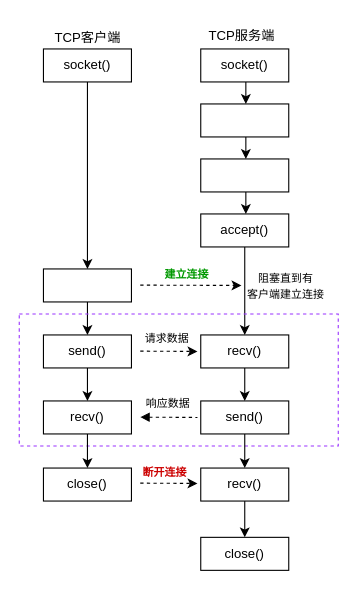
Image size: 358x590. Some labels were removed from this diagram. The box of each missing label's shape, as (x1, y1, x2, y2) in pixels:
bind(): (200, 103, 289, 137)
connect(): (42, 268, 131, 302)
listen(): (200, 158, 289, 192)
